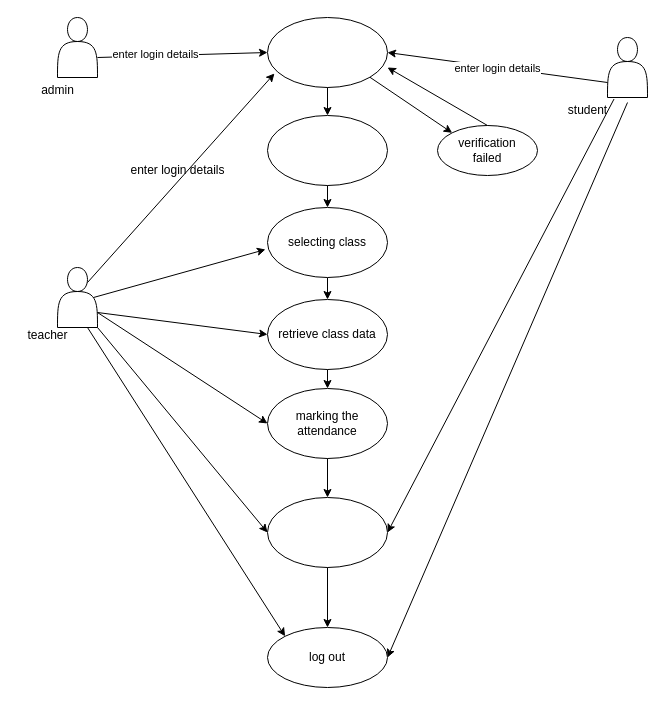
Image size: 665x705. Some labels were removed from this diagram. The shapes that lost their labels are listed below. From the top down, each one's centre as x and y in pixels, then its label:
At (x=327, y=52): "sign in".
At (x=327, y=150): "verifying login details".
At (x=327, y=532): "viewing attendance".
